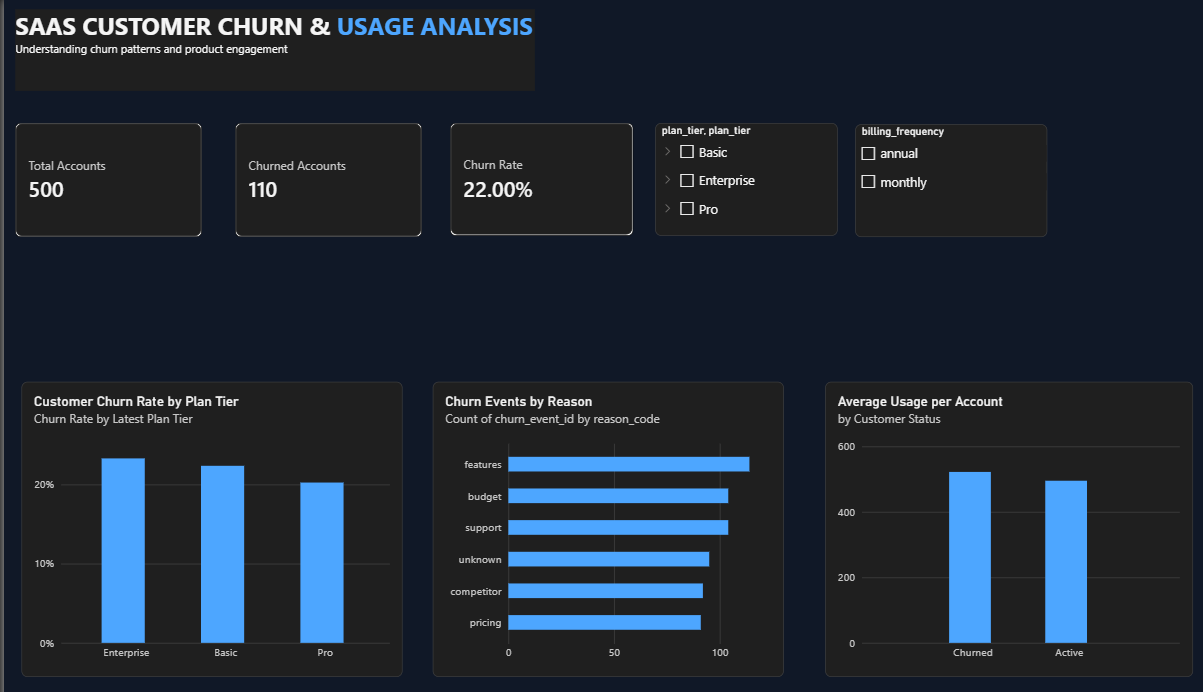

The page's visual inventory and layout, read from the dashboard file:
{"tool":"powerbi","page":{"name":"Page 1","canvas":[1920,1080],"ordinal":0},"visuals":[{"type":"cardVisual","fields":{"Data":["ravenstack_accounts.Total Accounts"]},"box":[14.3,167.1,249.1,152.3],"z":0},{"type":"cardVisual","fields":{"Data":["ravenstack_accounts.Churned Accounts"]},"box":[308.6,167.1,249,152],"z":1000},{"type":"clusteredColumnChart","title":"Customer Churn Rate by Plan Tier","fields":{"Category":["ravenstack_accounts.plan_tier"],"Y":["ravenstack_accounts.Churn Rate"]},"box":[23.3,511.7,508.3,393.3],"z":2000},{"type":"clusteredBarChart","title":"Churn Events by Reason","fields":{"Category":["ravenstack_churn_events.reason_code"],"Y":["CountNonNull(ravenstack_churn_events.churn_event_id)"]},"box":[571.7,511.7,468.3,393.3],"z":3000},{"type":"clusteredColumnChart","title":"Average Product Usage by Churn Status","fields":{"Category":["ravenstack_accounts.Customer Status"],"Y":["ravenstack_accounts.Average Usage per Account"]},"box":[1075,511.7,496.7,393.3],"z":4000},{"type":"textbox","box":[14.3,14.3,692.9,108.6],"z":5000},{"type":"slicer","fields":{"Values":["ravenstack_subscriptions.plan_tier","ravenstack_accounts.plan_tier"]},"box":[868.6,167.1,242.9,150],"z":6000},{"type":"slicer","fields":{"Values":["ravenstack_subscriptions.billing_frequency"]},"box":[1134.3,168.6,255.7,150],"z":7000},{"type":"cardVisual","fields":{"Data":["ravenstack_accounts.Churn Rate"]},"box":[595.7,167.1,244.3,150],"z":8000}]}

Visuals, with their boxes in screenshot pixels (x1, y1, x2, y2), scaled from the page's 1920x1080 canvas onto the 1203x692 screenshot:
cardVisual - ravenstack_accounts.Total Accounts: x1=9 y1=107 x2=165 y2=205
cardVisual - ravenstack_accounts.Churned Accounts: x1=193 y1=107 x2=349 y2=204
"Customer Churn Rate by Plan Tier" clusteredColumnChart: x1=15 y1=328 x2=333 y2=580
"Churn Events by Reason" clusteredBarChart: x1=358 y1=328 x2=652 y2=580
"Average Product Usage by Churn Status" clusteredColumnChart: x1=674 y1=328 x2=985 y2=580
textbox: x1=9 y1=9 x2=443 y2=79
slicer - ravenstack_subscriptions.plan_tier x ravenstack_accounts.plan_tier: x1=544 y1=107 x2=696 y2=203
slicer - ravenstack_subscriptions.billing_frequency: x1=711 y1=108 x2=871 y2=204
cardVisual - ravenstack_accounts.Churn Rate: x1=373 y1=107 x2=526 y2=203
